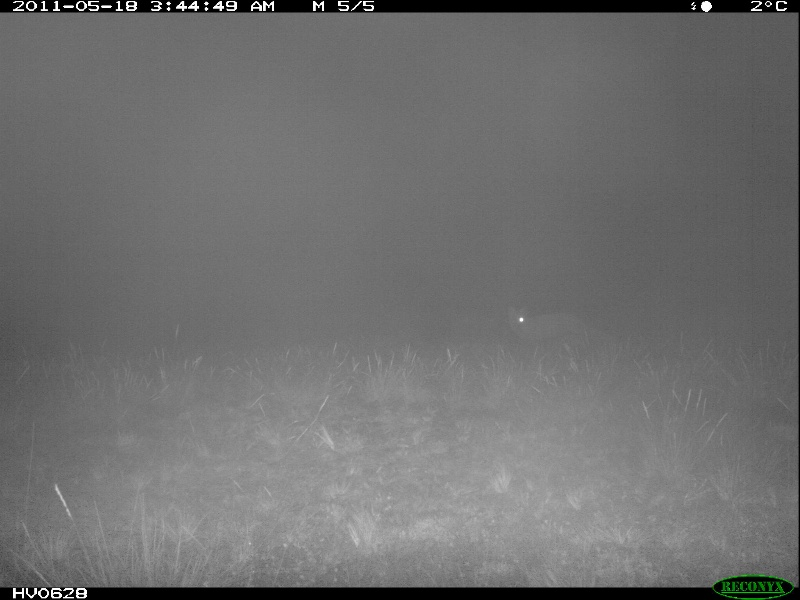fox: (506, 303, 597, 348)
